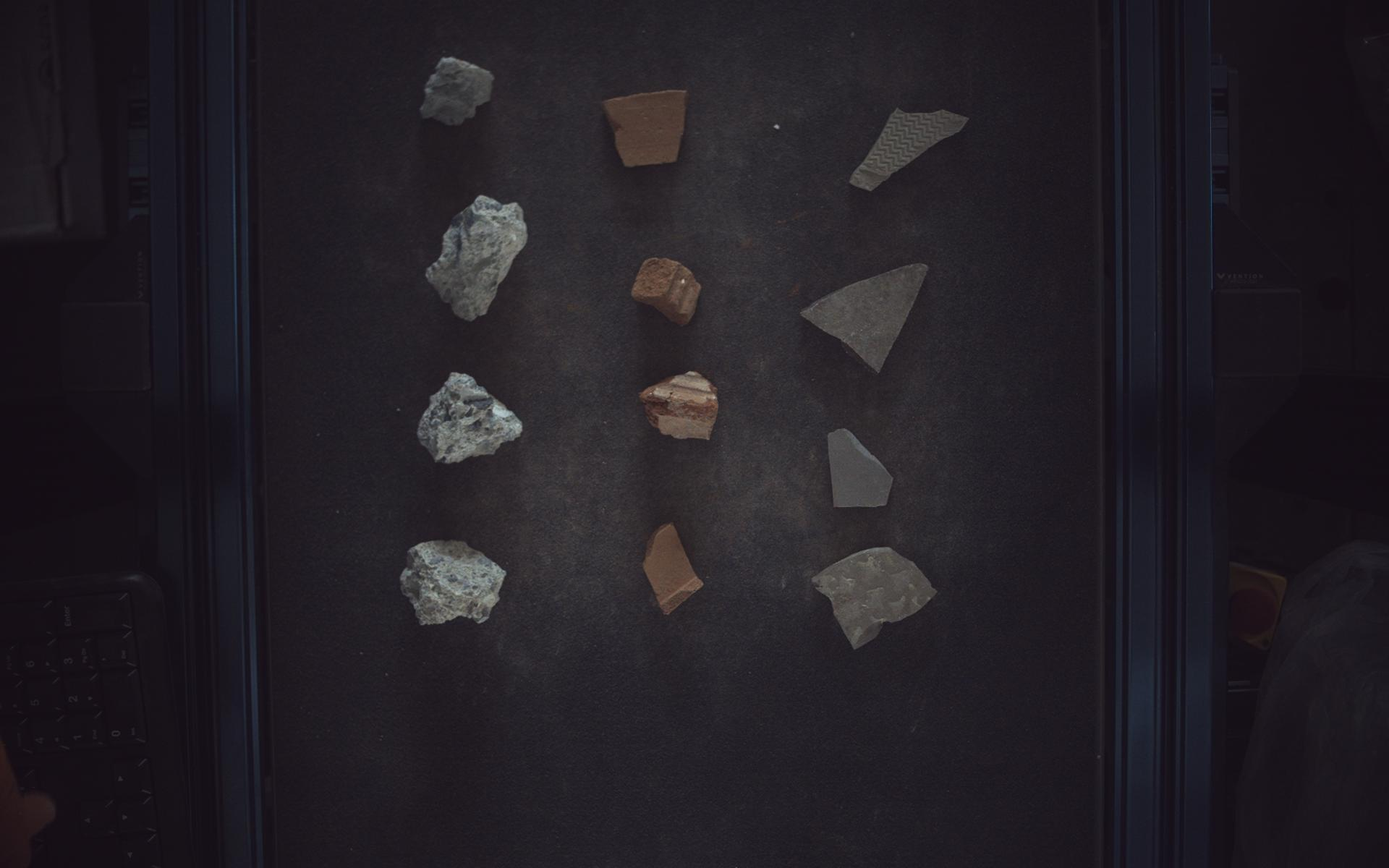brick: (603, 88, 688, 166), (644, 524, 705, 616), (641, 370, 719, 441), (632, 257, 702, 325)
concrete: (426, 195, 527, 321), (417, 373, 523, 464), (400, 541, 506, 626), (420, 56, 494, 124)
tile: (802, 264, 930, 373), (813, 548, 938, 650), (851, 108, 969, 190), (829, 428, 894, 508)
